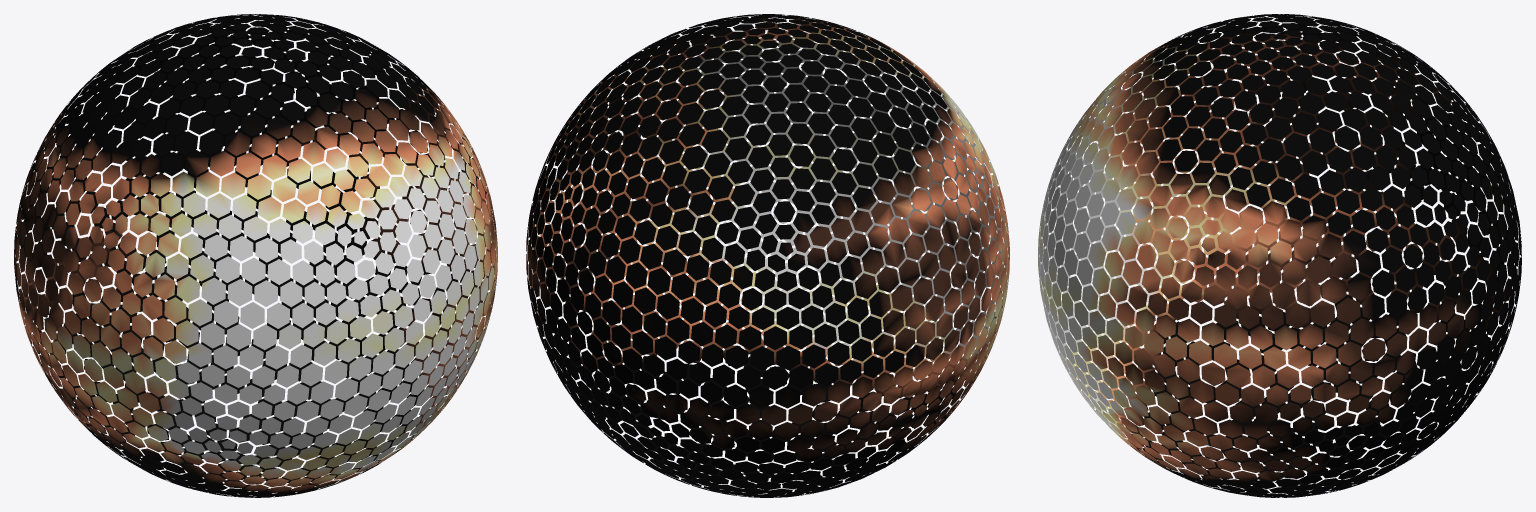
Rendered from plasma_hot_selena.fbx.
3 renders of one model, left to right at view 1: azimuth 30°, elevation 25°; view 2: azimuth 150°, elevation 25°; view 3: azimuth 270°, elevation 25°, orthographic.
Parts seen in each view (by area): view 1: plasma_hot_selena; view 2: plasma_hot_selena; view 3: plasma_hot_selena.
Part boxes in pixels (x1,y1,x2,y2): plasma_hot_selena: (14,14,497,497); plasma_hot_selena: (526,14,1009,497); plasma_hot_selena: (1038,14,1521,497).
Size of the model in its own units: 199 by 199 by 199.
